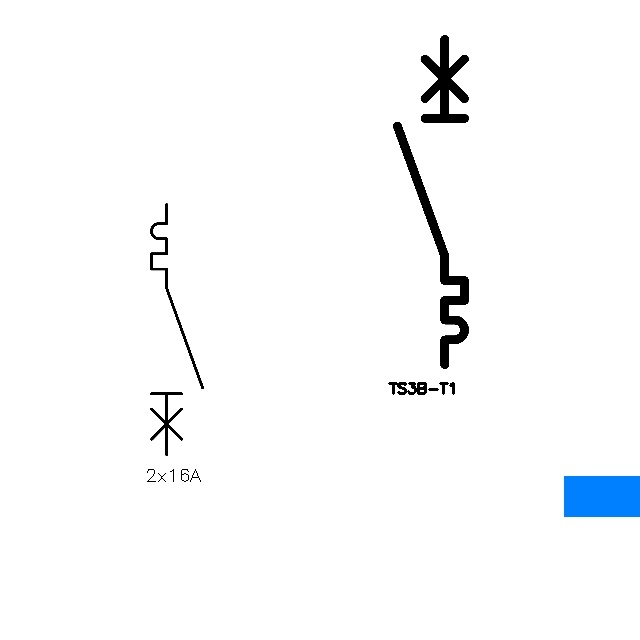interruptor_termomagnetico: (389, 31, 473, 373), (145, 198, 209, 461)
